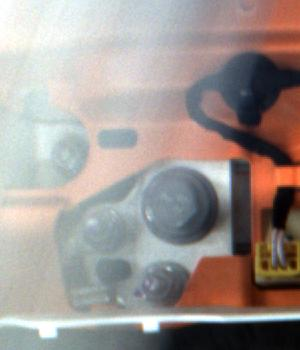nut_b: (135, 164, 214, 241)
